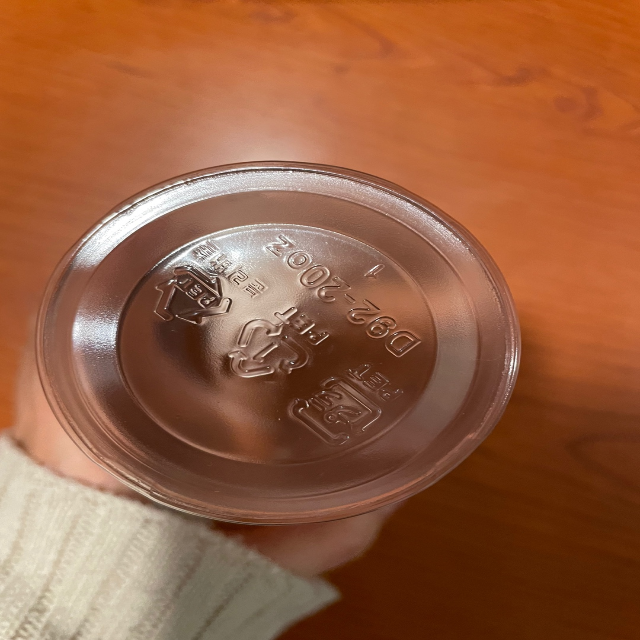pet: (145, 234, 266, 330), (282, 360, 404, 447), (218, 299, 335, 382)
